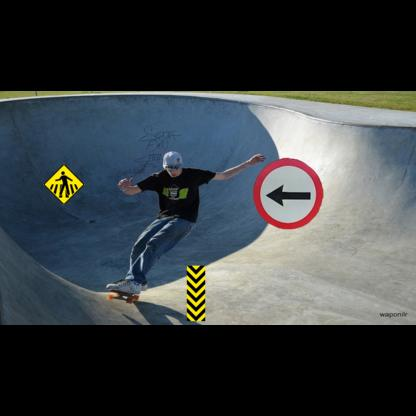A-32b: (43, 164, 84, 205)
O-MP: (187, 266, 205, 321)
R-24a: (253, 158, 323, 229)
